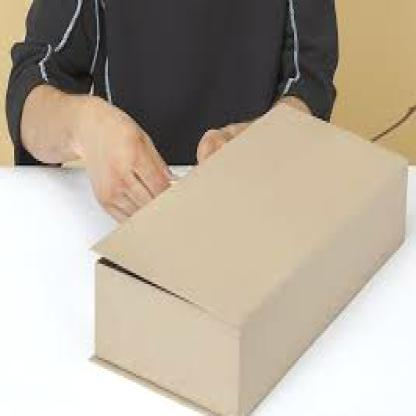package: (90, 101, 415, 416)
